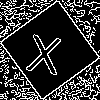X: (25, 25, 65, 75)
